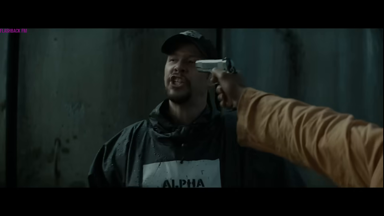firearm: (194, 55, 237, 79)
